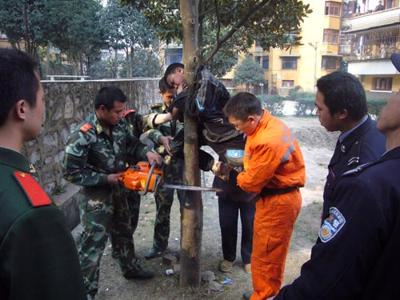person: (62, 86, 162, 300)
